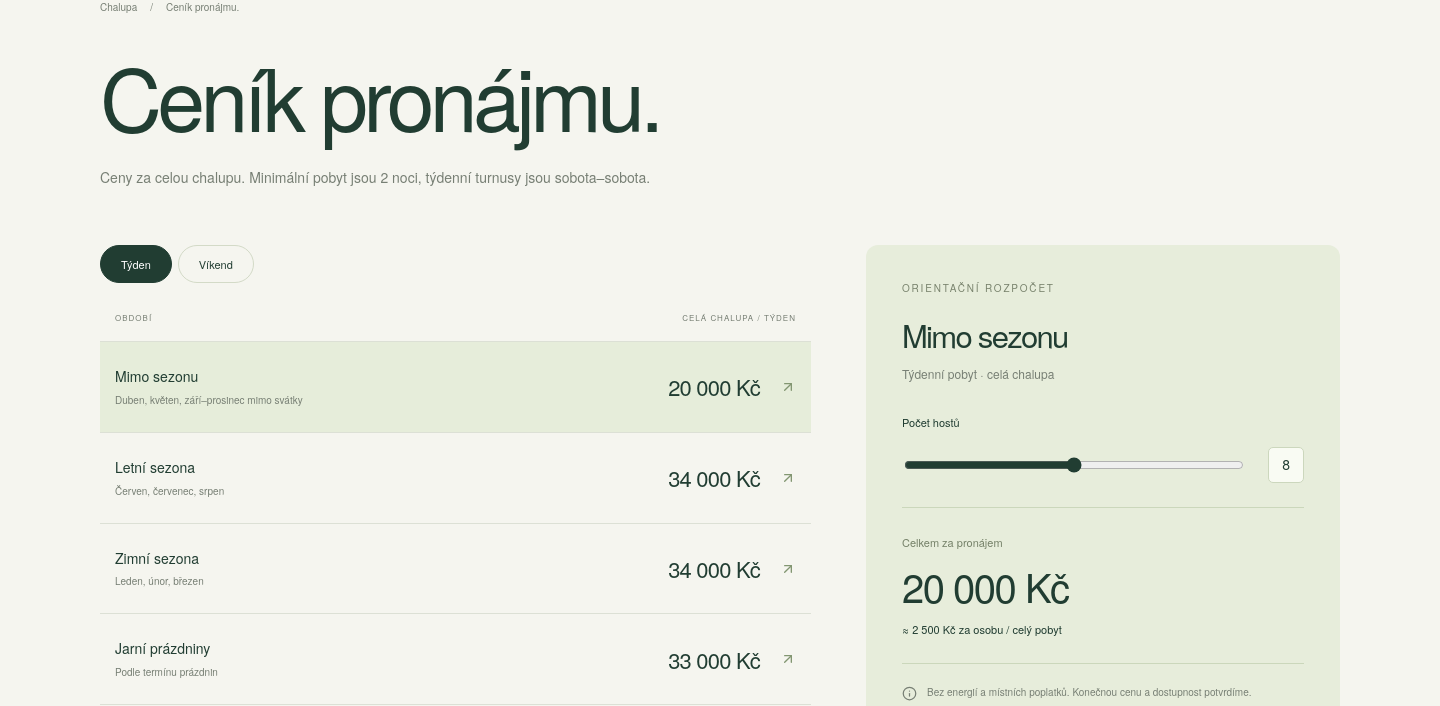
interactive property pages › changes pricing by stay length and distributes the total across guests
Click the button "Víkend": (216, 264) [178,245,254,284]
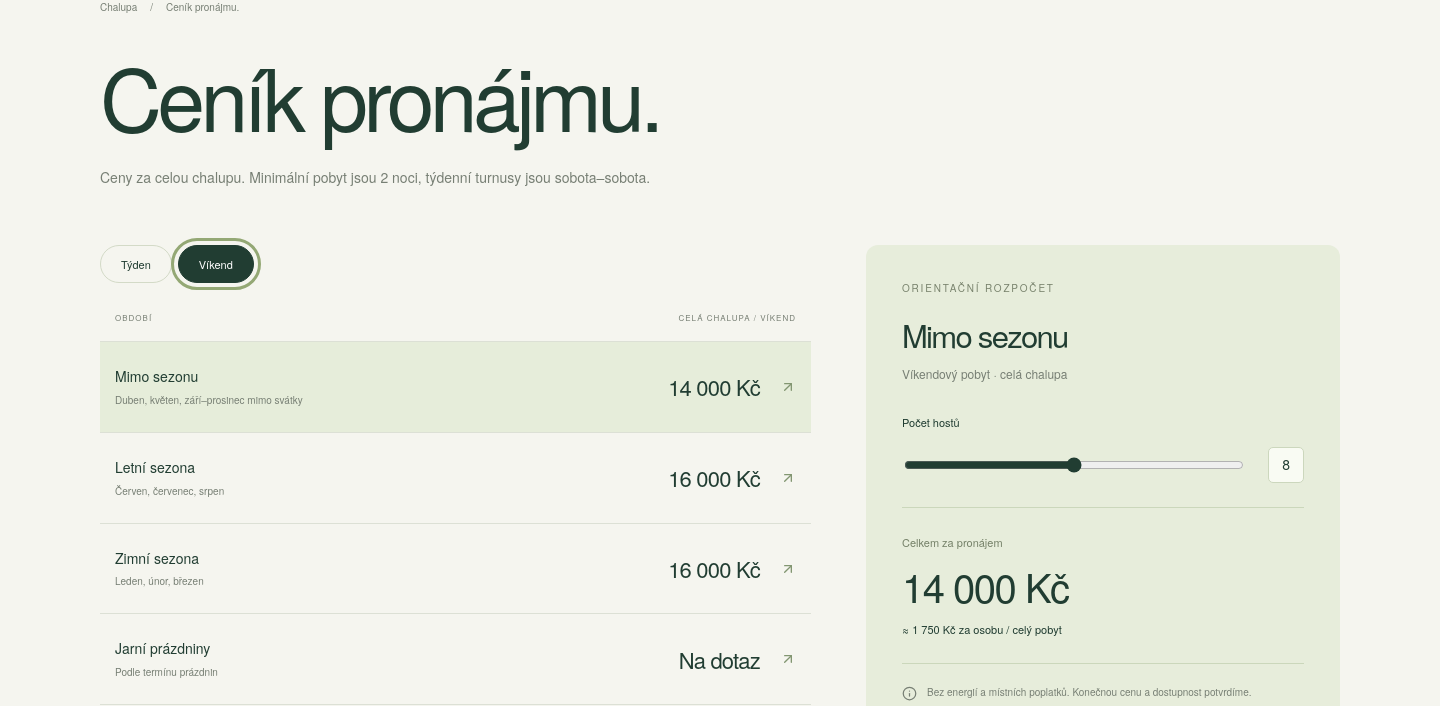
Set the slider to "14": (1236, 465) [904,457,1244,473]
(page scrolled)
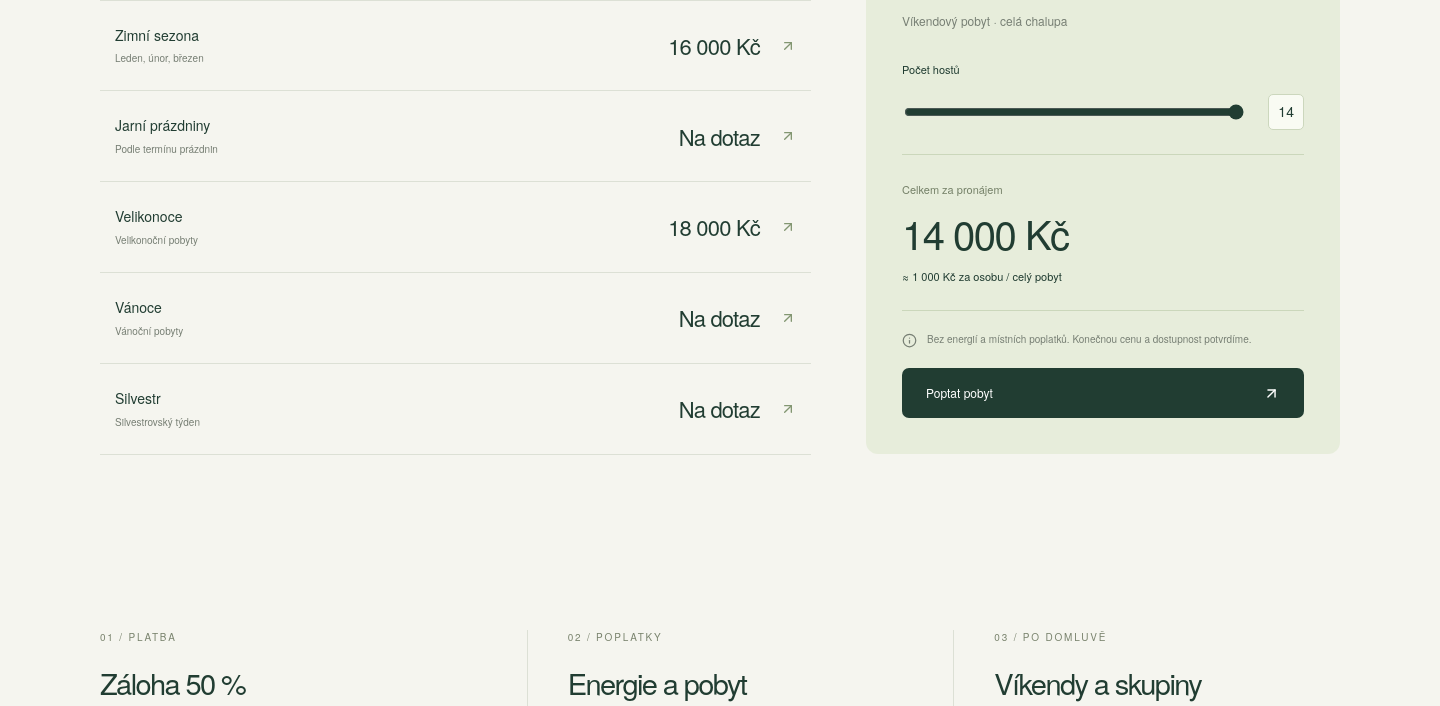
Click the button "Silvestr Silvestrovský týden Na dotaz": (138, 398) [100,364,811,455]
(page scrolled)
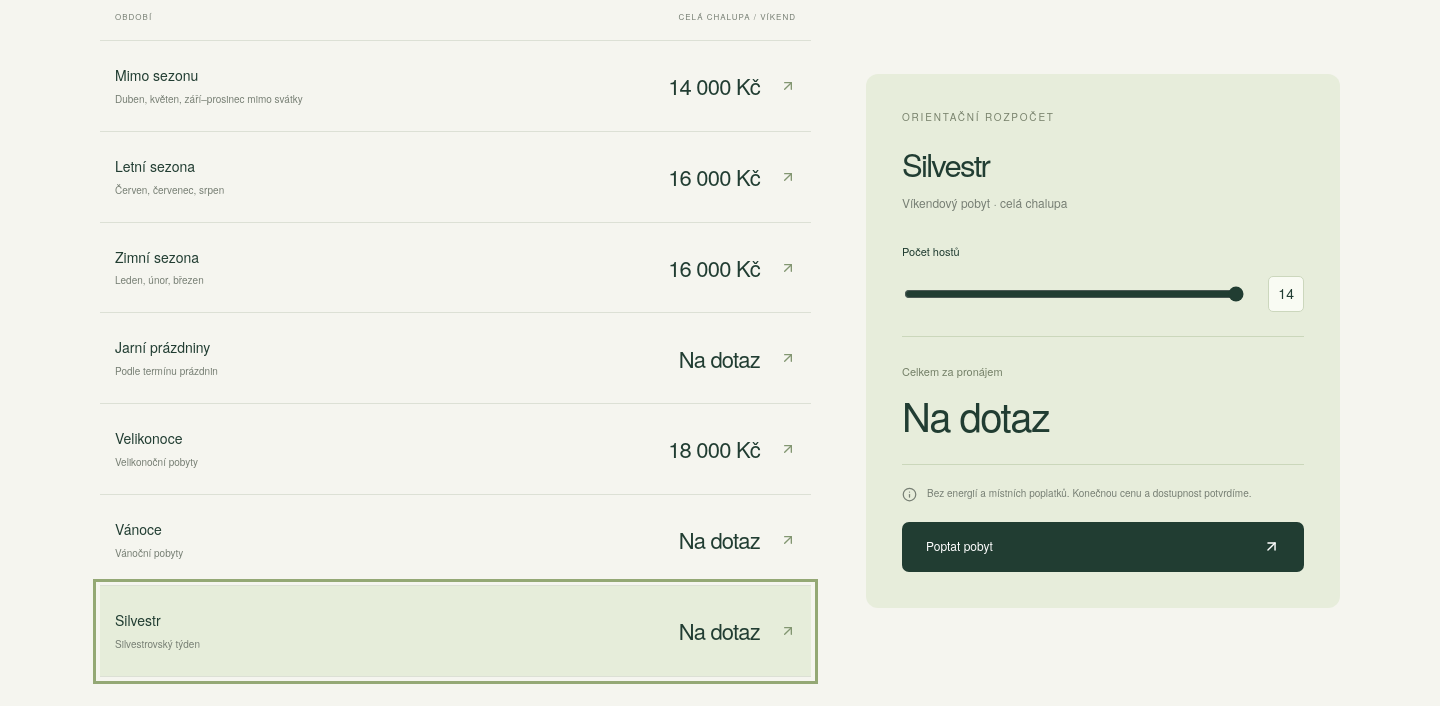
Check: the element that starts with "ORIENTAČNÍ ROZPOČET" shows "Na dotaz", box [902,386,1050,443]
Check: the element that starts with "ORIENTAČNÍ ROZPOČET" no longer shows "za osobu", box [866,74,1340,608]
